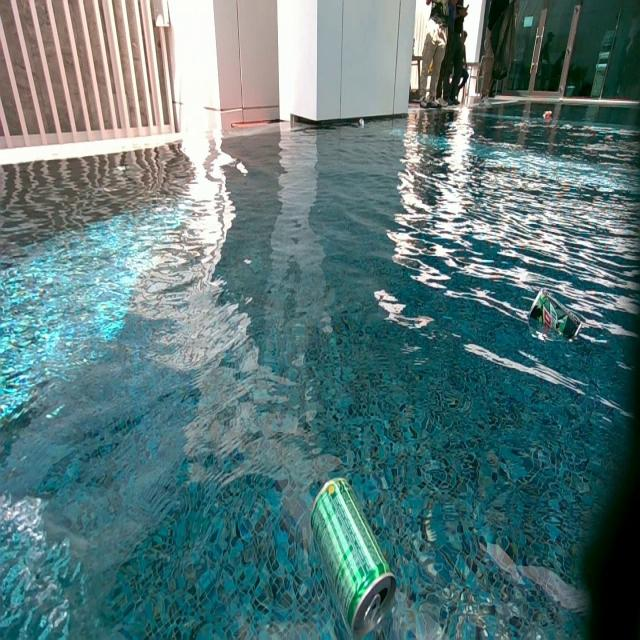Cans: (310, 476, 401, 640), (528, 289, 585, 340), (543, 111, 552, 119), (358, 118, 364, 127)
